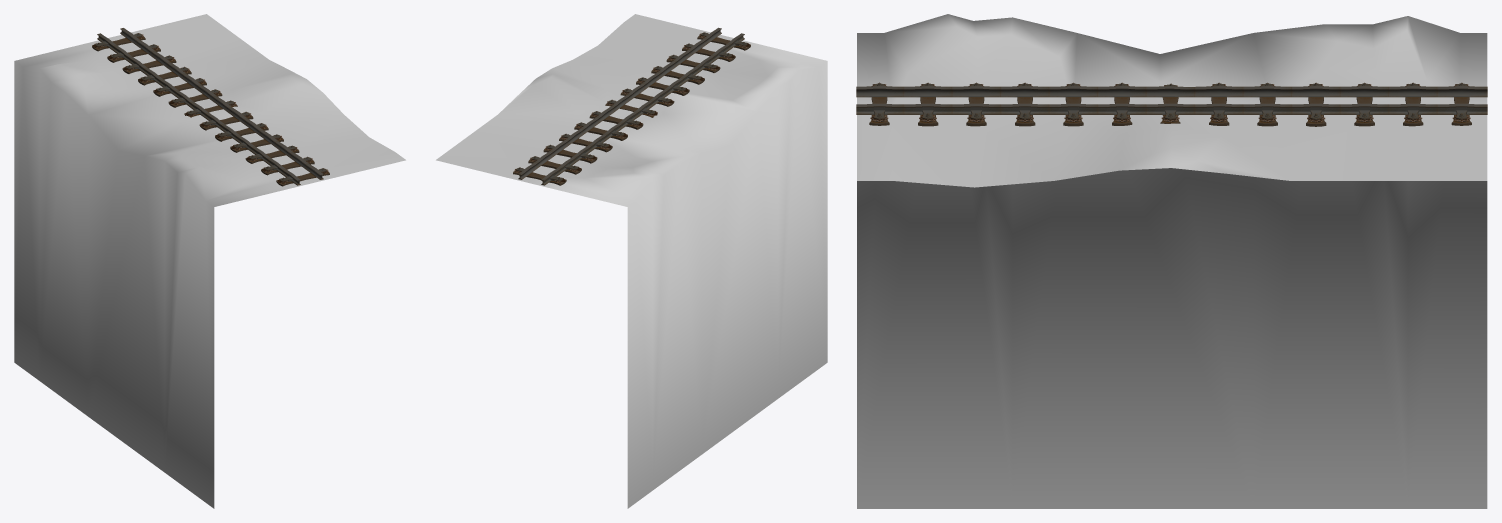
Rendered from f_floor_02.fbx.
3 views of the same model, side by side, from view 1: azimuth 30°, elevation 25°; view 2: azimuth 150°, elevation 25°; view 3: azimuth 270°, elevation 25° (orthographic). The views are drawn at different scales.
Visible parts, largest first — view 1: f_floor_02; view 2: f_floor_02; view 3: f_floor_02.
Part boxes in pixels (x1,y1,x2,y2): f_floor_02: (14, 14, 405, 508); f_floor_02: (436, 14, 827, 508); f_floor_02: (856, 14, 1487, 508).
Size of the model in its own units: 10 by 15.67 by 18.03.
